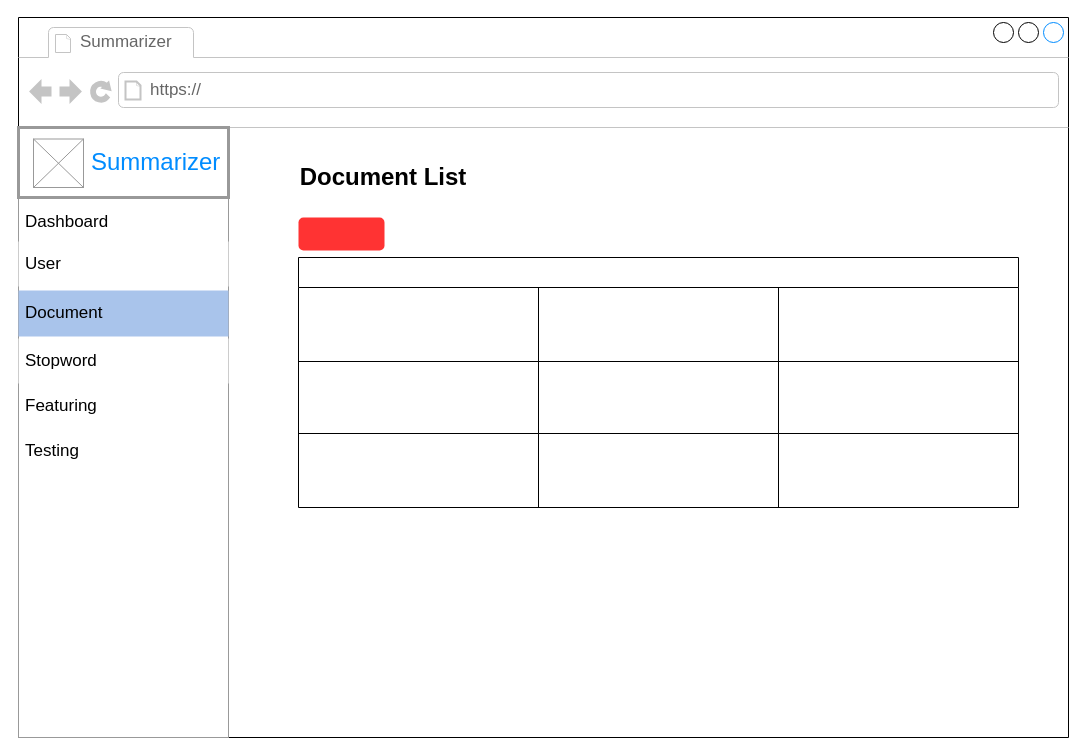
This 1086x755 diagram has some shape labels left out. The box of each missing label's shape, as (x1, y1, x2, y2) in pixels:
Delete All: (298, 217, 384, 250)
Document Table: (298, 256, 1018, 508)
